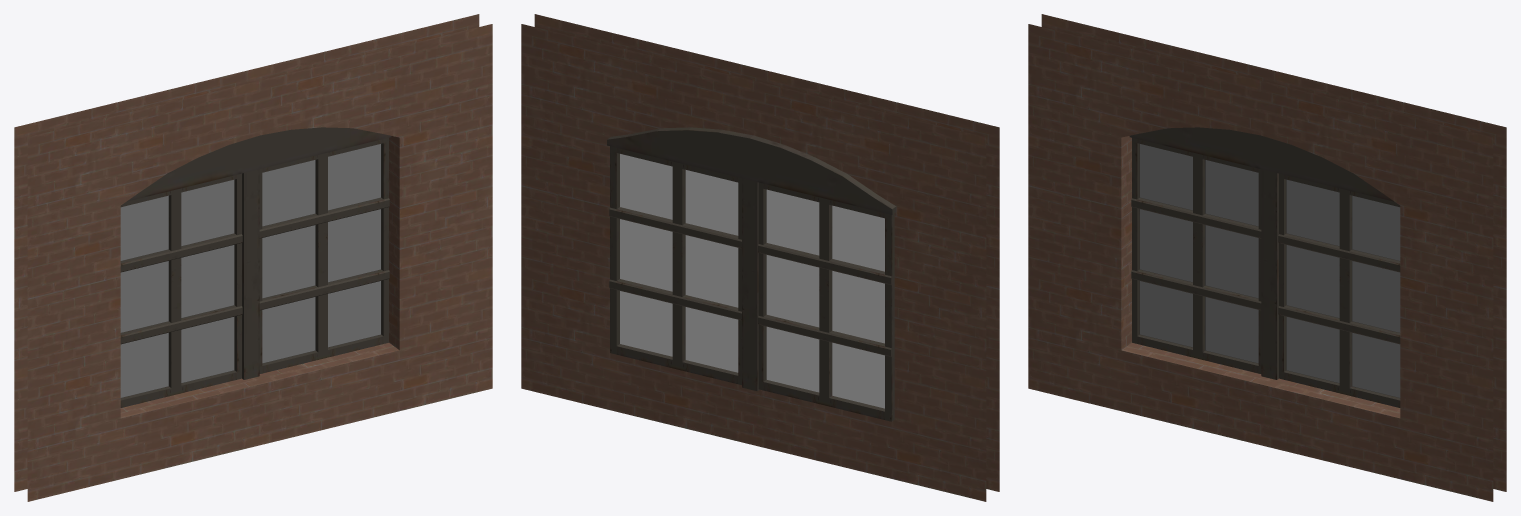
File: downtown-facades.glb
The picture shows the model from 3 angles, left to right: view 1: azimuth 30°, elevation 25°; view 2: azimuth 150°, elevation 25°; view 3: azimuth 330°, elevation 25°; orthographic projection.
Visible parts, largest first — view 1: Brick_Window_CurvedDouble; view 2: Brick_Window_CurvedDouble; view 3: Brick_Window_CurvedDouble.
Boxes of the visible parts, left/top/right/bottom form: Brick_Window_CurvedDouble: left=14, top=14, right=492, bottom=501; Brick_Window_CurvedDouble: left=521, top=14, right=999, bottom=501; Brick_Window_CurvedDouble: left=1028, top=14, right=1506, bottom=501.
Size of the model in its own units: 4 by 3 by 0.2603.
Materials: 4 (2 with a texture image).
